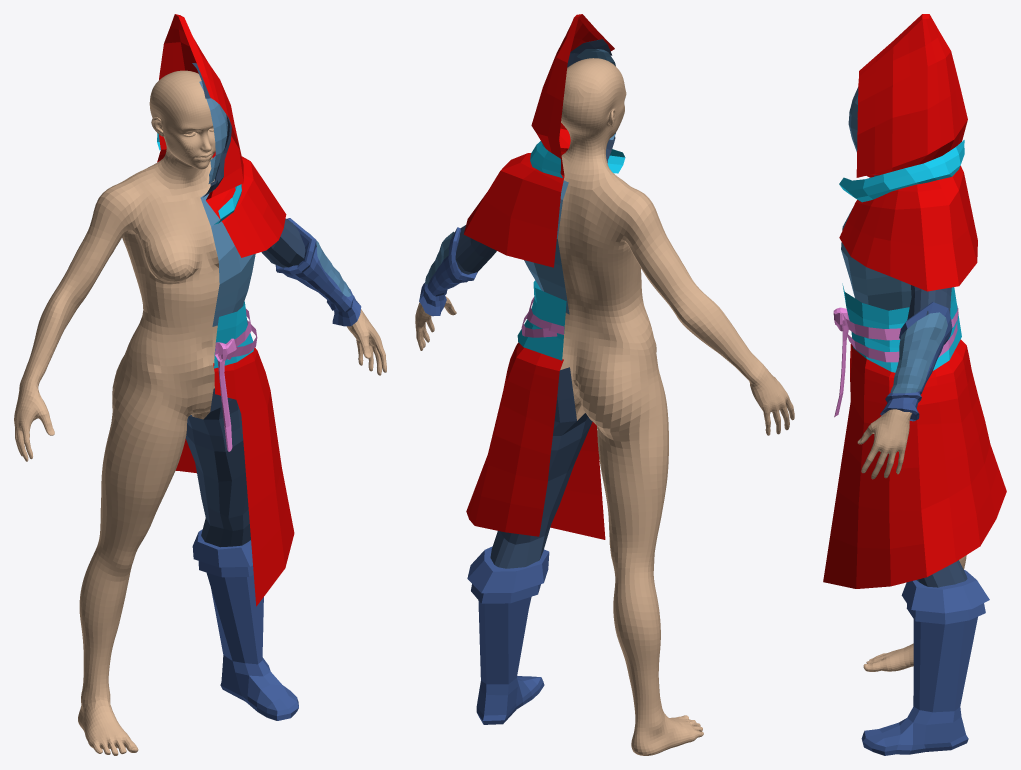
File: redKnight.glb
The picture shows the model from 3 angles, left to right: view 1: azimuth 30°, elevation 25°; view 2: azimuth 150°, elevation 25°; view 3: azimuth 270°, elevation 25°; orthographic projection. The views are drawn at different scales.
Parts seen in each view (by area): view 1: Body, Skirt, Boots, Hood, Pants, Curiass, Bracers.Flare, Sleeves, WaistBelt, Bow, Helmet; view 2: Body, Skirt, Hood, Boots, Pants, WaistBelt, Bracers.Flare, Curiass, Sleeves, Scarf; view 3: Skirt, Hood, Boots, Body, Bracers, WaistBelt, Scarf, Curiass, Bracers.Flare, Sleeves, Pants, Belt (+3 smaller).
Part boxes in pixels (x1,y1,x2,y2): Body: [14, 70, 386, 755]; Skirt: [175, 348, 294, 606]; Boots: [192, 529, 298, 720]; Hood: [157, 14, 286, 257]; Pants: [185, 388, 250, 547]; Curiass: [200, 193, 255, 326]; Bracers.Flare: [275, 218, 361, 326]; Sleeves: [261, 219, 305, 267]; WaistBelt: [214, 301, 253, 368]; Bow: [215, 338, 236, 451]; Helmet: [199, 81, 227, 183]; Body: [415, 58, 794, 755]; Skirt: [466, 342, 605, 539]; Hood: [463, 14, 614, 267]; Boots: [467, 546, 549, 724]; Pants: [490, 367, 592, 568]; WaistBelt: [517, 280, 566, 360]; Bracers.Flare: [419, 227, 477, 316]; Curiass: [524, 180, 569, 314]; Sleeves: [455, 225, 496, 274]; Scarf: [530, 141, 625, 178]; Skirt: [823, 337, 1006, 588]; Hood: [839, 14, 977, 291]; Boots: [861, 570, 989, 755]; Body: [857, 409, 966, 671]; Bracers: [890, 312, 947, 393]; WaistBelt: [842, 283, 961, 372]; Scarf: [839, 140, 964, 202]; Curiass: [841, 208, 911, 310]; Bracers.Flare: [880, 302, 952, 421]; Sleeves: [907, 285, 951, 319]; Pants: [916, 560, 967, 587]; Belt: [843, 306, 958, 340].
Bounding box in the file's own units: 1 × 1.85 × 0.4445.
